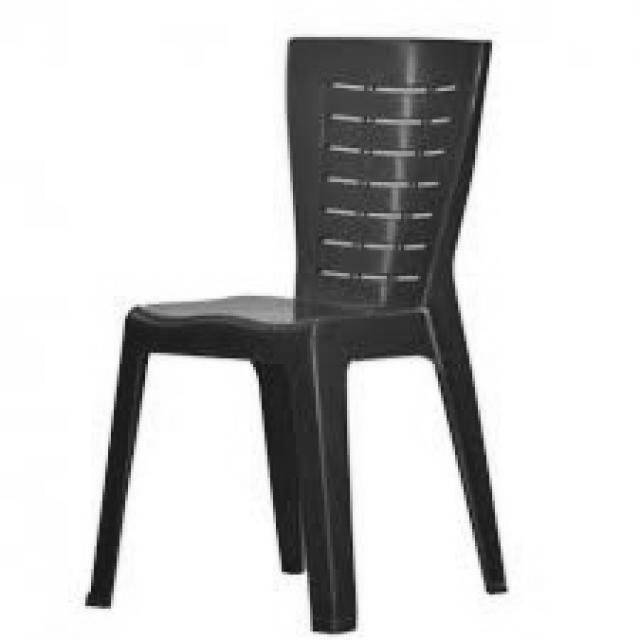chair: (85, 34, 509, 629)
